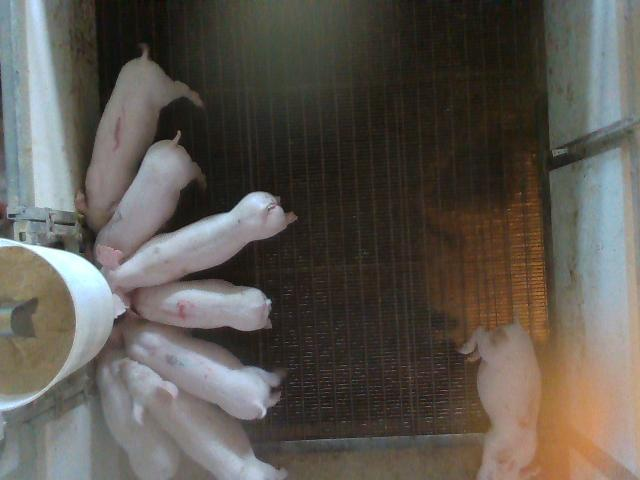pig-1: (76, 45, 204, 232)
pig-3: (459, 321, 541, 478)
pig-4: (131, 279, 271, 331)
